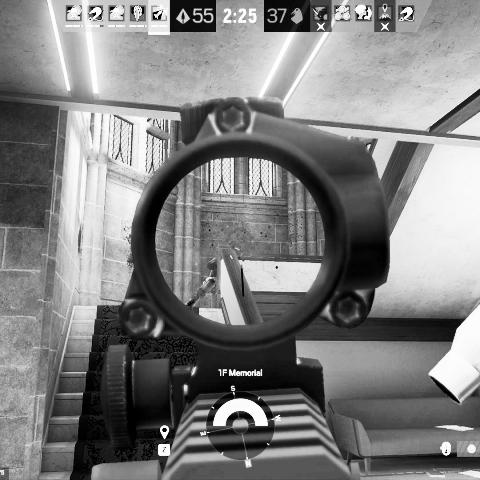Character: (183, 256, 218, 309)
